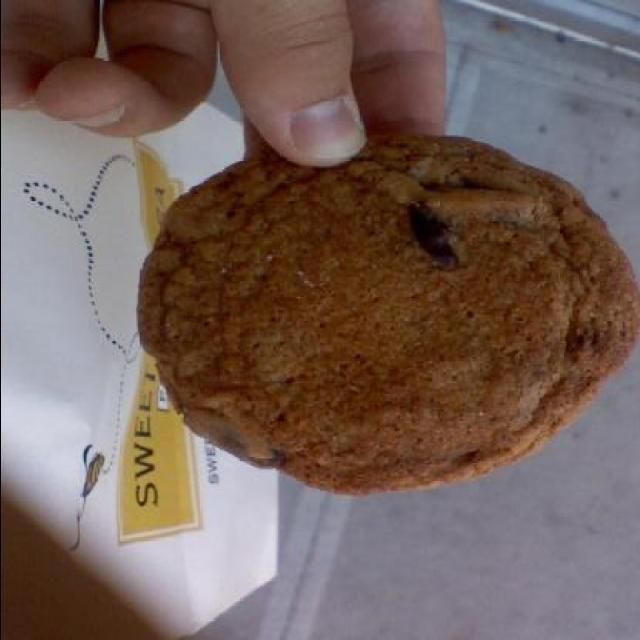Cookie: (134, 119, 624, 495)
